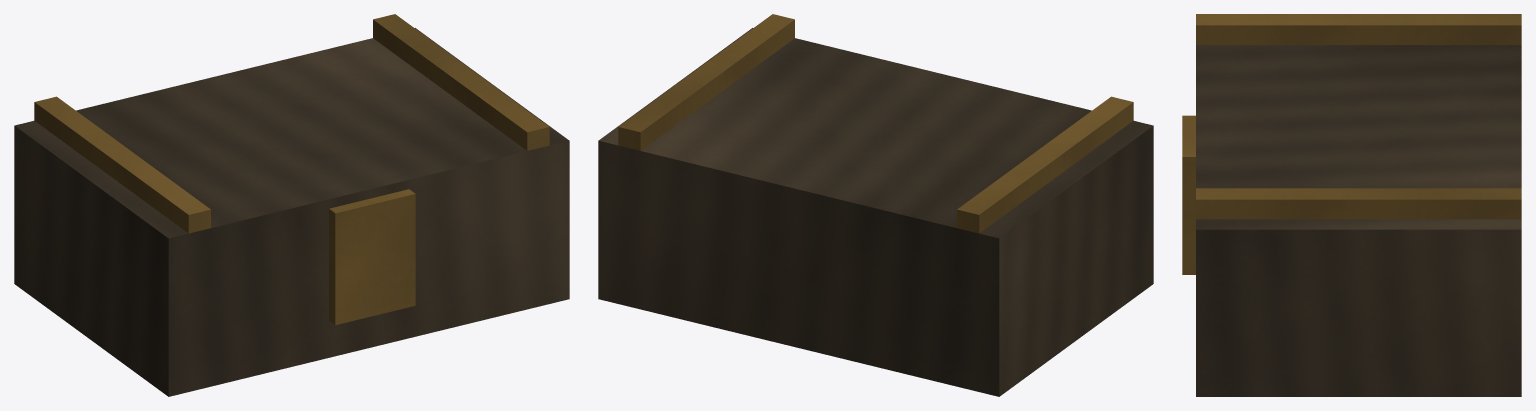
File: Reliquary.glb
3 views of the same model, side by side, from view 1: azimuth 30°, elevation 25°; view 2: azimuth 150°, elevation 25°; view 3: azimuth 270°, elevation 25° (orthographic). The views are drawn at different scales.
Parts seen in each view (by area): view 1: Reliquary; view 2: Reliquary; view 3: Reliquary.
Part boxes in pixels (x1,y1,x2,y2): Reliquary: (14, 14, 569, 396); Reliquary: (598, 14, 1153, 396); Reliquary: (1182, 14, 1521, 396).
Bounding box in the file's own units: 0.45 × 0.19 × 0.3125.
Materials: 2 (2 with a texture image).
